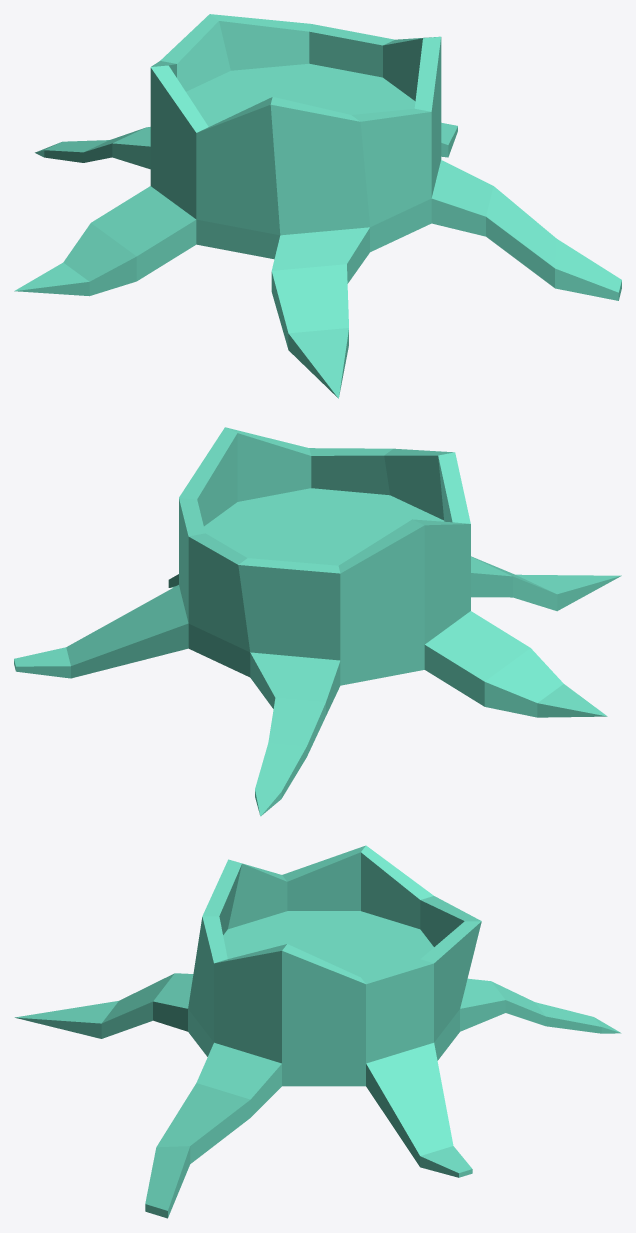
The model's file is Toco de Madeiro 1.fbx.
3 views of the same model, one above another, from view 1: azimuth 30°, elevation 25°; view 2: azimuth 150°, elevation 25°; view 3: azimuth 270°, elevation 25° (orthographic). The views are drawn at different scales.
Visible parts, largest first — view 1: Tronco 1; view 2: Tronco 1; view 3: Tronco 1.
Part boxes in pixels (x1,y1,x2,y2): Tronco 1: [14, 14, 621, 398]; Tronco 1: [14, 427, 621, 816]; Tronco 1: [14, 845, 621, 1218].
Bounding box in the file's own units: 109 × 47.44 × 120.
